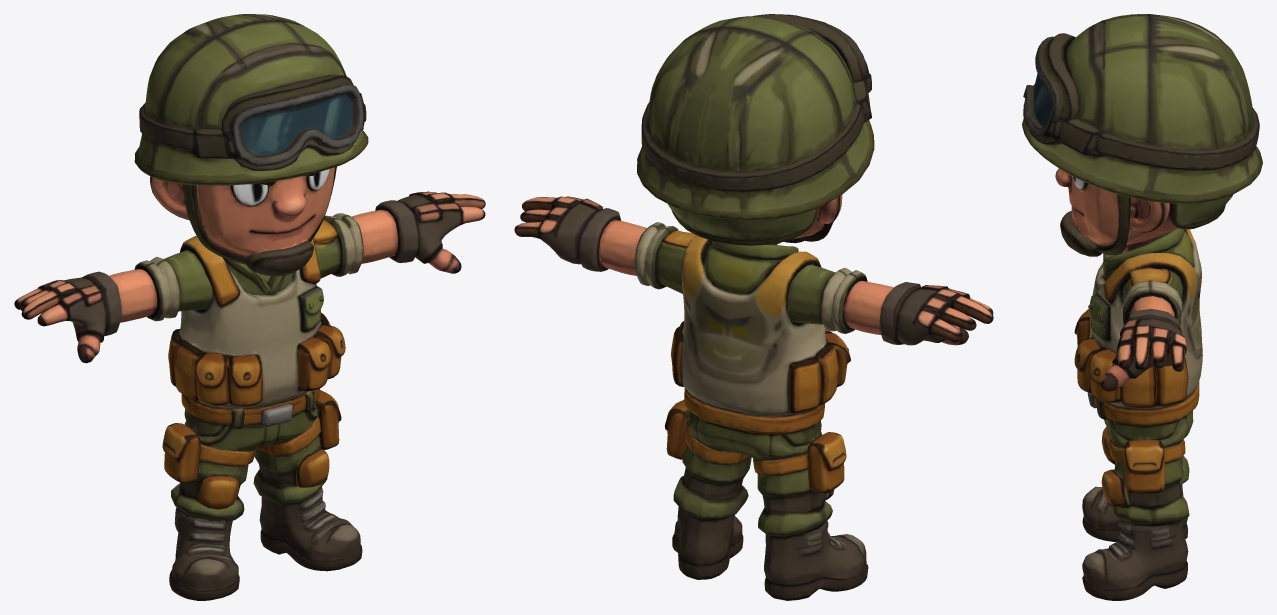
The model's file is Soldier.glb.
The picture shows the model from 3 angles, left to right: view 1: azimuth 30°, elevation 25°; view 2: azimuth 150°, elevation 25°; view 3: azimuth 270°, elevation 25°; orthographic projection. The views are drawn at different scales.
Visible parts, largest first — view 1: world; view 2: world; view 3: world.
Part boxes in pixels (x1=…): world: x1=14, y1=14, x2=485, y2=600; world: x1=514, y1=14, x2=993, y2=600; world: x1=1022, y1=14, x2=1262, y2=600.
Bounding box in the file's own units: 0.9 × 1 × 0.4096.
1 material, 1 textured.
